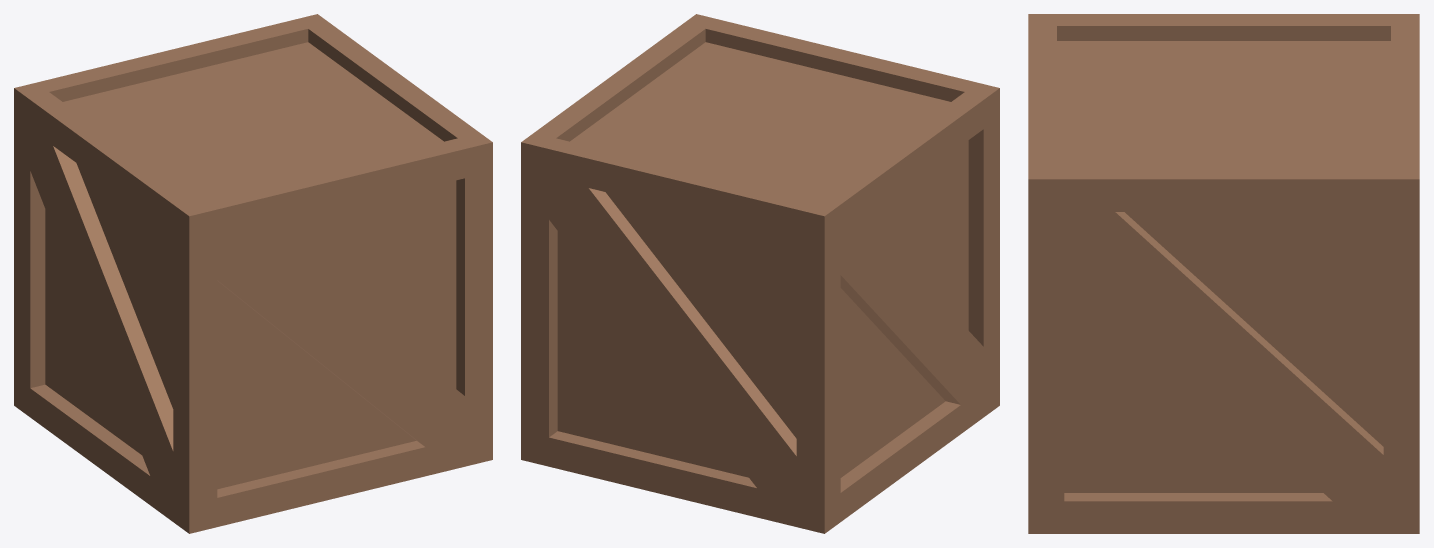
The model's file is kiste.fbx.
The picture shows the model from 3 angles, left to right: view 1: azimuth 30°, elevation 25°; view 2: azimuth 150°, elevation 25°; view 3: azimuth 270°, elevation 25°; orthographic projection. The views are drawn at different scales.
Parts seen in each view (by area): view 1: kiste; view 2: kiste; view 3: kiste.
Part boxes in pixels (x1,y1,x2,y2): kiste: [14, 14, 492, 533]; kiste: [521, 14, 999, 533]; kiste: [1028, 14, 1419, 533].
Bounding box in the file's own units: 1 × 1 × 1.
